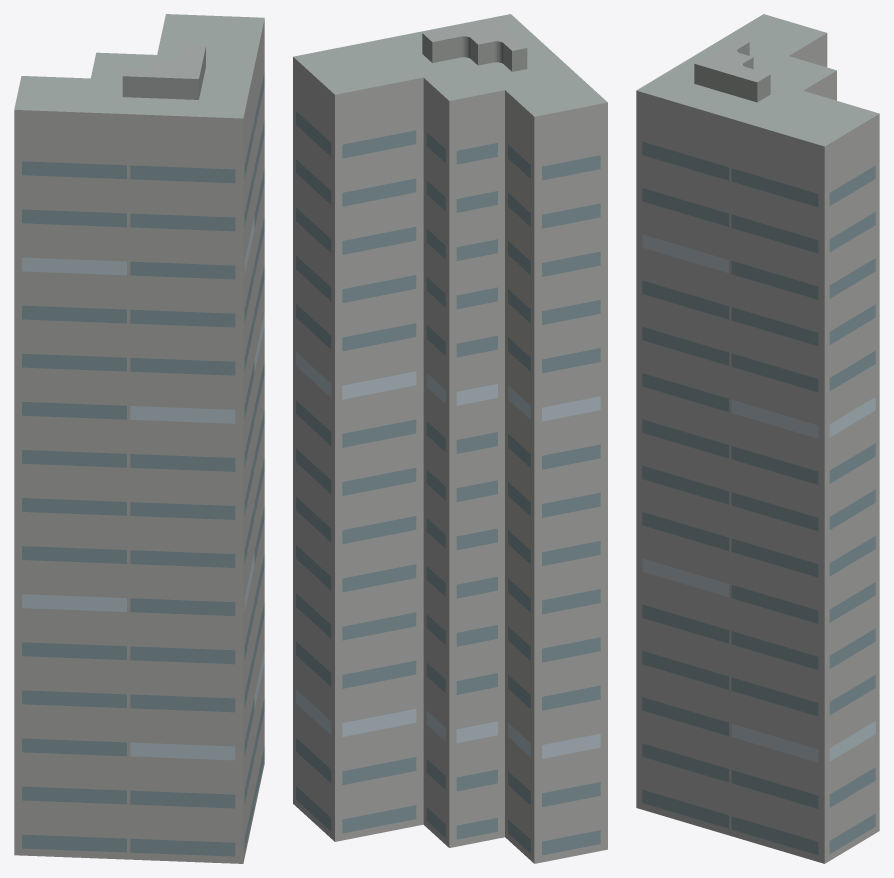
File: fallback-prestige-109.glb
3 renders of one model, left to right at view 1: azimuth 30°, elevation 25°; view 2: azimuth 150°, elevation 25°; view 3: azimuth 270°, elevation 25°, orthographic. The views are drawn at different scales.
Parts seen in each view (by area): view 1: fallback-prestige-109; view 2: fallback-prestige-109; view 3: fallback-prestige-109.
Part boxes in pixels (box(x1,y1,x2,y2)): fallback-prestige-109: box(14, 14, 264, 863); fallback-prestige-109: box(293, 14, 607, 863); fallback-prestige-109: box(636, 14, 879, 863).
Bounding box in the file's own units: 33.93 × 88 × 26.33.
